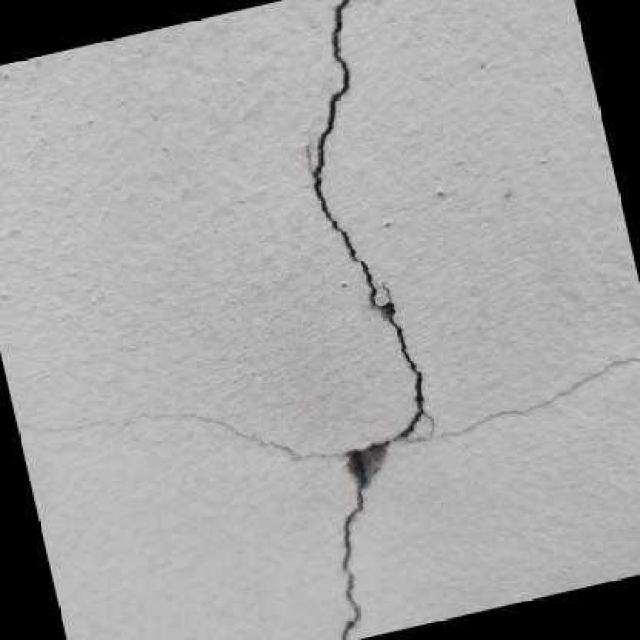D00: (128, 0, 640, 640), (16, 420, 140, 432)
